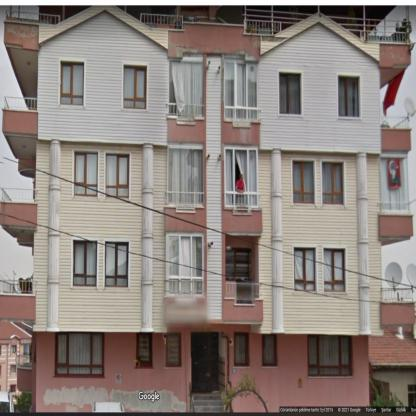door: (192, 332, 218, 391), (407, 384, 415, 406)
window: (166, 231, 204, 297), (167, 144, 203, 205), (225, 57, 258, 121), (55, 333, 103, 376), (168, 58, 203, 116), (308, 335, 352, 376), (380, 153, 409, 213), (72, 239, 98, 286), (105, 152, 130, 200), (104, 241, 129, 287), (336, 75, 360, 118), (322, 160, 344, 205), (323, 248, 345, 293), (124, 66, 146, 110), (294, 247, 316, 291), (60, 62, 83, 104), (278, 71, 301, 113), (293, 160, 314, 204), (226, 248, 252, 282), (74, 152, 97, 189), (235, 147, 248, 208), (224, 147, 235, 207), (247, 148, 257, 206), (137, 333, 152, 367), (234, 334, 249, 366), (166, 333, 180, 367), (264, 334, 276, 366), (74, 184, 97, 197)
